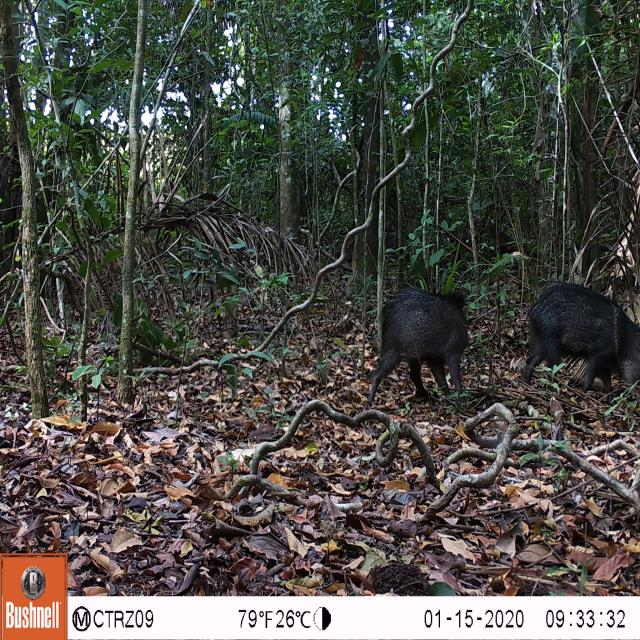White-lipped Peccary: (355, 273, 488, 411), (516, 264, 640, 391)
